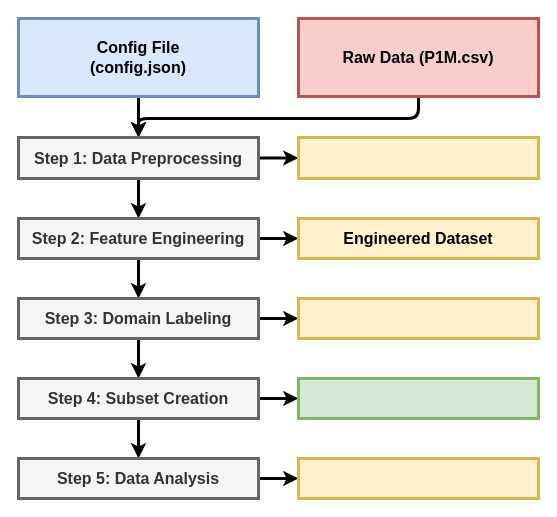
Some shapes in this 557 by 517 pixel diagram are drawn without their labels. Each missing label, with the box of its shape:
Domain-Labeled Dataset: (296, 296, 540, 340)
Preprocessed Dataset: (296, 136, 540, 180)
Reports & Figures: (296, 456, 540, 500)
Subset Files: (296, 376, 540, 420)
